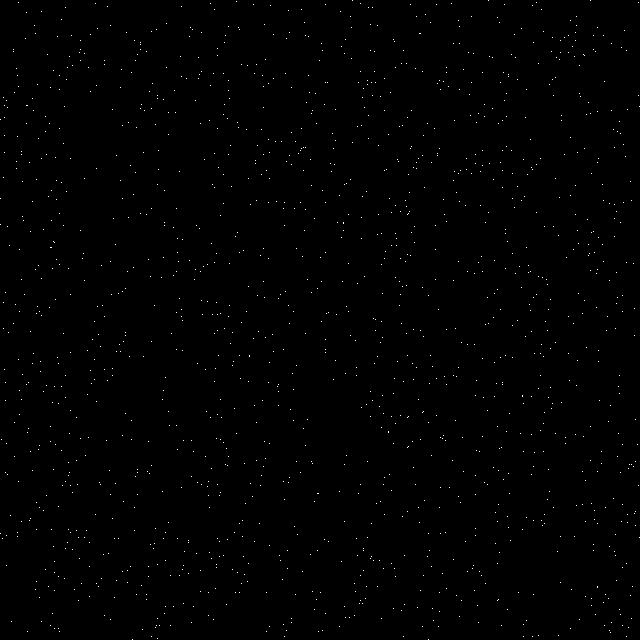Ograniczenie predkosci do 120: (121, 119, 564, 567)
